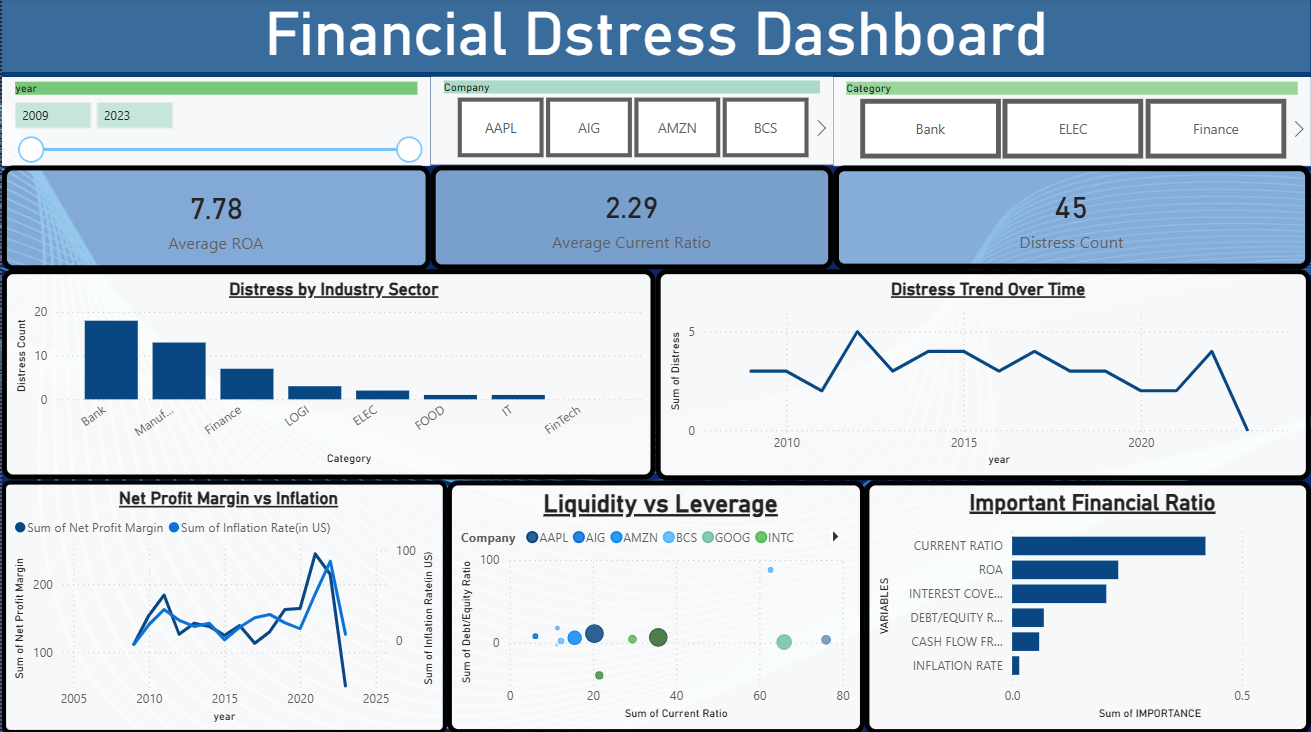

What the dashboard file says about the page in this screenshot:
{"tool":"powerbi","page":{"name":"Dashboard","canvas":[1280,720],"ordinal":3},"visuals":[{"type":"slicer","fields":{"Values":["Sheet1.year"]},"box":[0,77,419.4,86.8],"z":0},{"type":"slicer","fields":{"Values":["Sheet1.Company "]},"box":[419.4,75.8,393.8,86.8],"z":1000},{"type":"slicer","fields":{"Values":["Sheet1.Category"]},"box":[813.2,77,467.1,86.8],"z":2000},{"type":"card","fields":{"Values":["Sheet1.Average ROA"]},"box":[0,163.9,419.4,102.7],"z":3000},{"type":"card","fields":{"Values":["Sheet1.Average Current Ratio"]},"box":[419.4,163.9,393.8,101.5],"z":4000},{"type":"card","fields":{"Values":["Sheet1.Distress Count"]},"box":[813.2,163.9,467.1,101.5],"z":5000},{"type":"clusteredColumnChart","title":"Distress by Industry Sector","fields":{"Category":["Sheet1.Category"],"Y":["Sheet1.Distress Count"]},"box":[0,265.4,639.5,205.4],"z":6000},{"type":"lineChart","title":"Distress Trend Over Time","fields":{"Category":["Sheet1.year"],"Y":["Sum(Sheet1.Distress)"]},"box":[639.5,265.4,640.8,206.7],"z":7000},{"type":"lineChart","title":"Net Profit Margin vs Inflation","fields":{"Category":["Sheet1.year"],"Y":["Sum(Sheet1.Net Profit Margin)"],"Y2":["Sum(Sheet1.Inflation Rate(in US))"]},"box":[0,472,435.3,248.2],"z":8000},{"type":"scatterChart","title":"Liquidity vs Leverage","fields":{"Series":["Sheet1.Company "],"Size":["Sum(Sheet1.Market Cap(in B USD))"],"X":["Sum(Sheet1.Current Ratio)"],"Y":["Sum(Sheet1.Debt/Equity Ratio)"]},"box":[435.3,472,408.4,248.2],"z":9000},{"type":"clusteredBarChart","title":"Important Financial Ratio","fields":{"Category":["Financial ratio importance.VARIABLES"],"Y":["Sum(Financial ratio importance.IMPORTANCE)"]},"box":[843.8,472,436.6,248.2],"z":10000},{"type":"shape","title":"Financial Dstress Dashboard","box":[0,0,1280.3,77],"z":10001}]}

Visuals, with their boxes in screenshot pixels (x1, y1, x2, y2), scaled from the page's 1280x720 canvas onto the 1311x732 screenshot:
slicer - Sheet1.year: x1=0, y1=78, x2=430, y2=167
slicer - Sheet1.Company : x1=430, y1=77, x2=833, y2=165
slicer - Sheet1.Category: x1=833, y1=78, x2=1310, y2=167
card - Sheet1.Average ROA: x1=0, y1=167, x2=430, y2=271
card - Sheet1.Average Current Ratio: x1=430, y1=167, x2=833, y2=270
card - Sheet1.Distress Count: x1=833, y1=167, x2=1310, y2=270
"Distress by Industry Sector" clusteredColumnChart: x1=0, y1=270, x2=655, y2=479
"Distress Trend Over Time" lineChart: x1=655, y1=270, x2=1310, y2=480
"Net Profit Margin vs Inflation" lineChart: x1=0, y1=480, x2=446, y2=731
"Liquidity vs Leverage" scatterChart: x1=446, y1=480, x2=864, y2=731
"Important Financial Ratio" clusteredBarChart: x1=864, y1=480, x2=1310, y2=731
"Financial Dstress Dashboard" shape: x1=0, y1=0, x2=1310, y2=78
